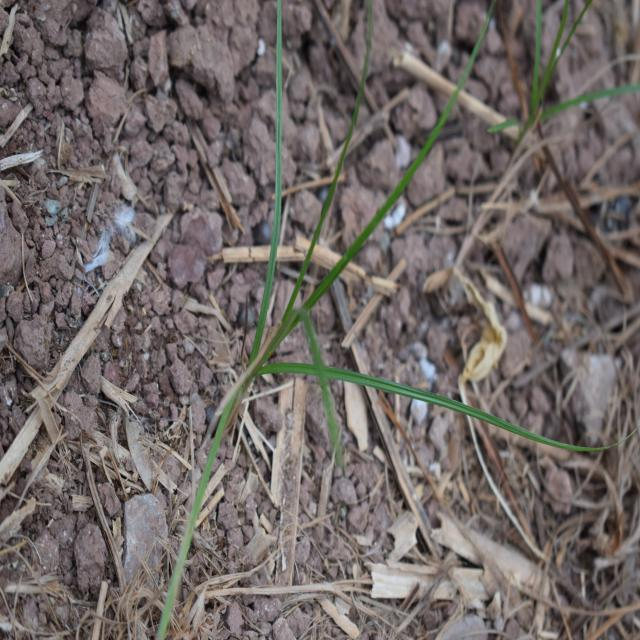sedge: (198, 0, 540, 523)
